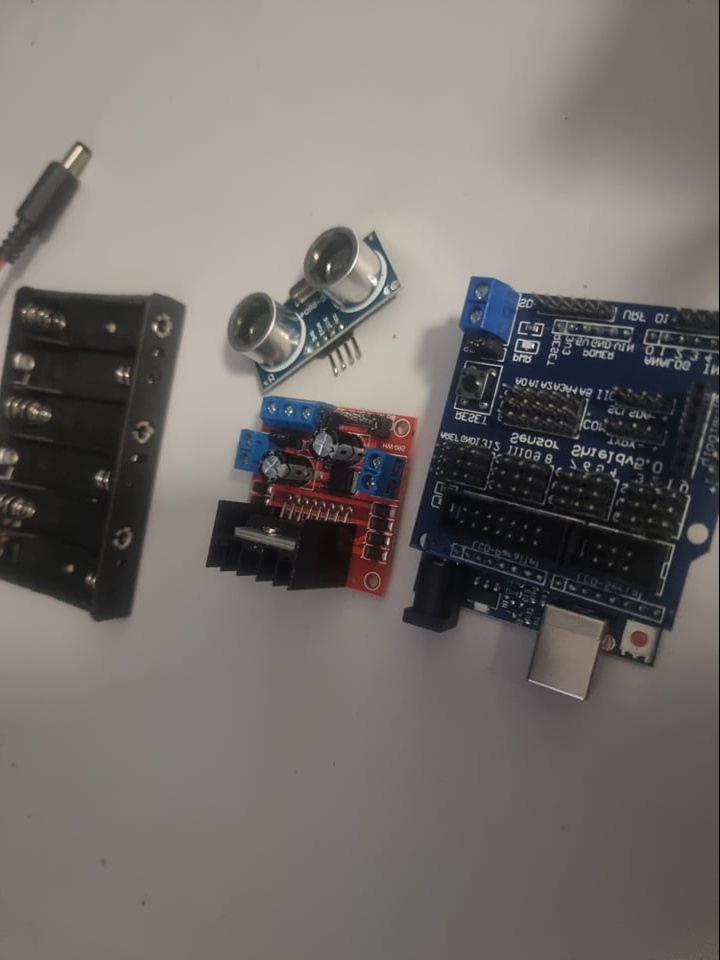5V EXPANSION: (416, 264, 720, 564)
BATTERY BOX: (3, 274, 192, 620)
MOTOR: (209, 397, 409, 611)
SENSOR: (220, 221, 407, 389)
UNO R3: (389, 574, 687, 712)
